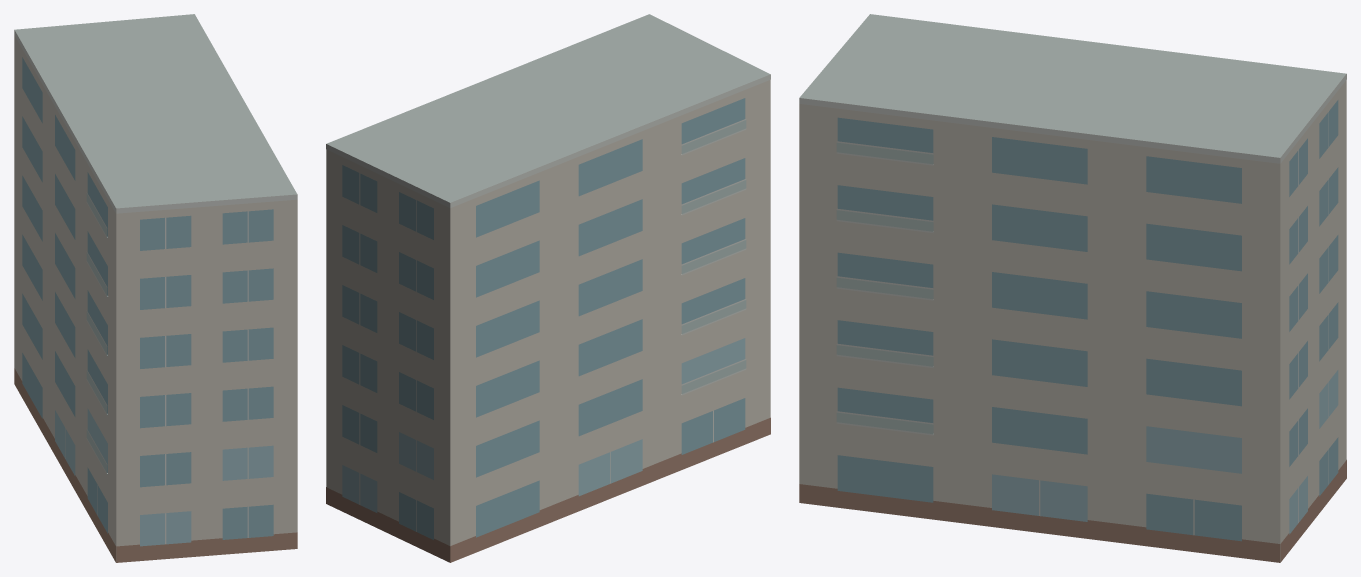
The model's file is survey-upis-33026580.glb.
The picture shows the model from 3 angles, left to right: view 1: azimuth 30°, elevation 25°; view 2: azimuth 150°, elevation 25°; view 3: azimuth 270°, elevation 25°; orthographic projection. The views are drawn at different scales.
Visible parts, largest first — view 1: survey-upis-33026580.tmp; view 2: survey-upis-33026580.tmp; view 3: survey-upis-33026580.tmp.
Part boxes in pixels (x1=…): survey-upis-33026580.tmp: x1=14, y1=14, x2=297, y2=562; survey-upis-33026580.tmp: x1=326, y1=14, x2=770, y2=562; survey-upis-33026580.tmp: x1=799, y1=14, x2=1346, y2=562.
Size of the model in its own units: 12.59 by 16.5 by 20.23.
